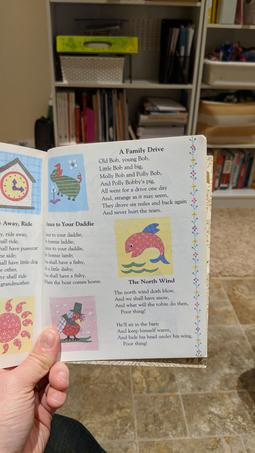text block: (92, 140, 198, 213), (110, 275, 196, 349), (39, 217, 103, 288), (1, 220, 41, 290)
